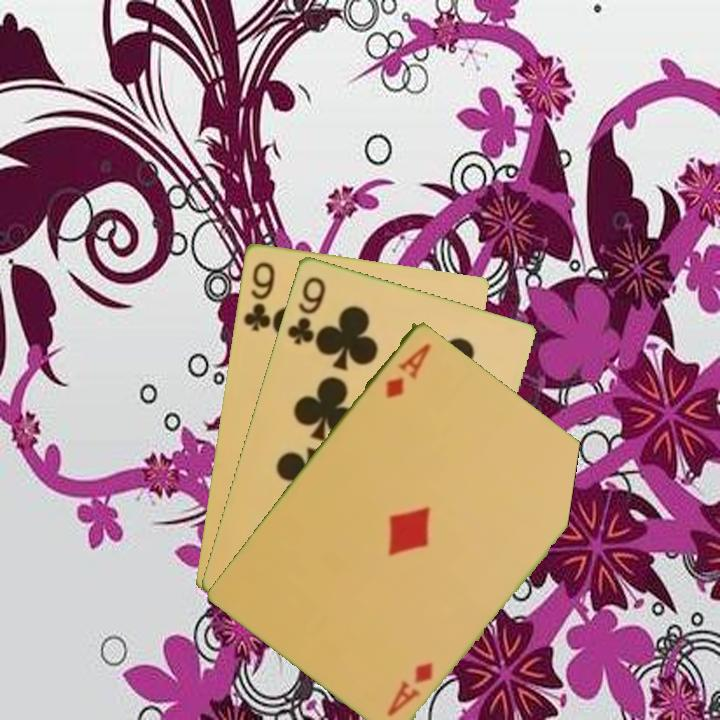9c: (283, 272, 329, 347), (240, 258, 278, 334)
Ad: (383, 657, 436, 719), (382, 339, 434, 401)
